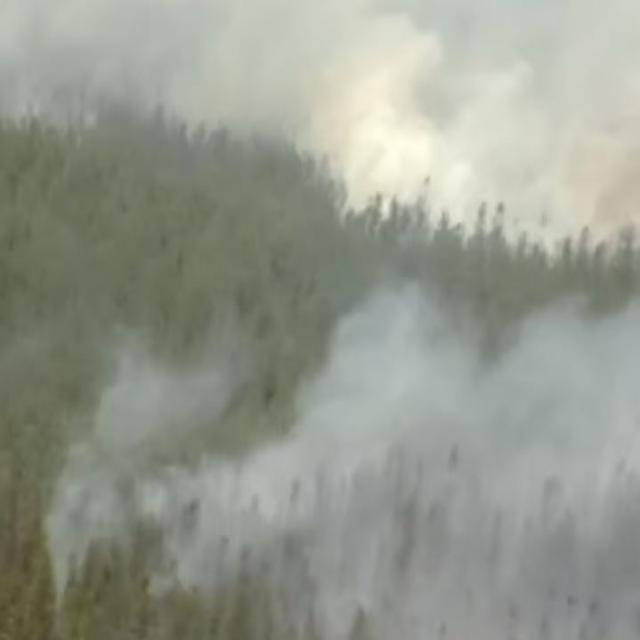Smoke: (86, 146, 640, 551)
